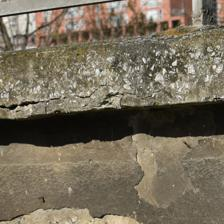Crack: (2, 82, 114, 113), (90, 88, 161, 109)
